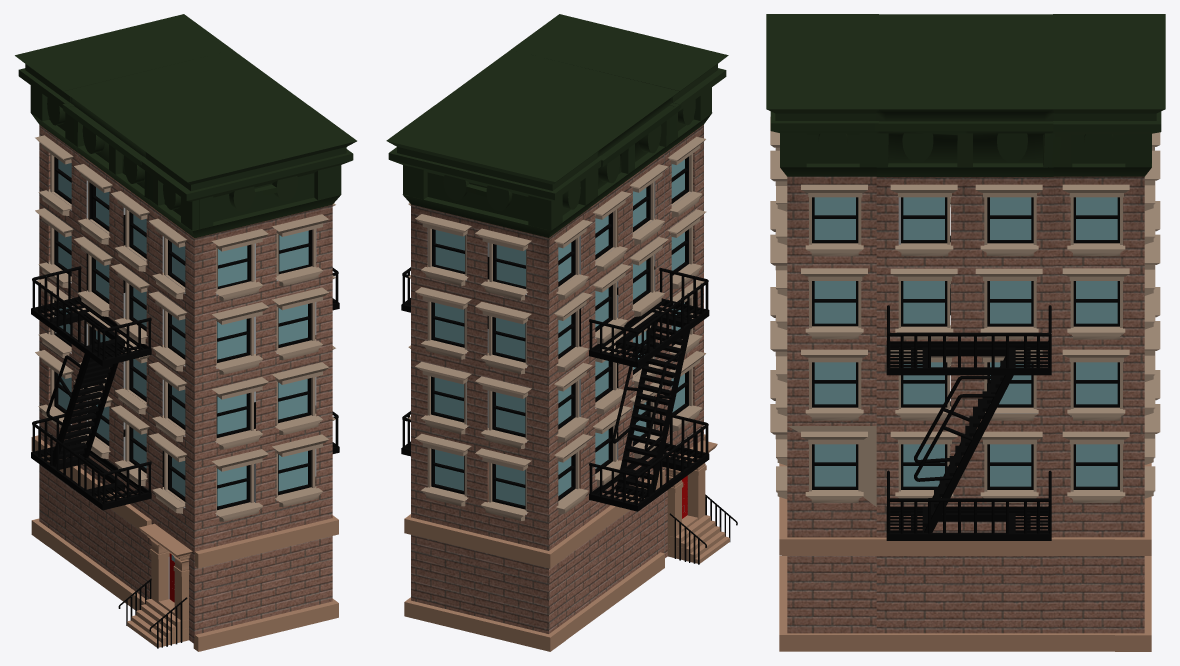
File: new_york_apartment.glb
The picture shows the model from 3 angles, left to right: view 1: azimuth 30°, elevation 25°; view 2: azimuth 150°, elevation 25°; view 3: azimuth 270°, elevation 25°; orthographic projection. The views are drawn at different scales.
Parts seen in each view (by area): view 1: Building; view 2: Building; view 3: Building.
Boxes of the visible parts, x1=… form: Building: x1=15, y1=14, x2=356, y2=651; Building: x1=386, y1=14, x2=737, y2=651; Building: x1=766, y1=14, x2=1165, y2=651.
Size of the model in its own units: 863 by 1655 by 1090.
9 materials, 1 textured.
